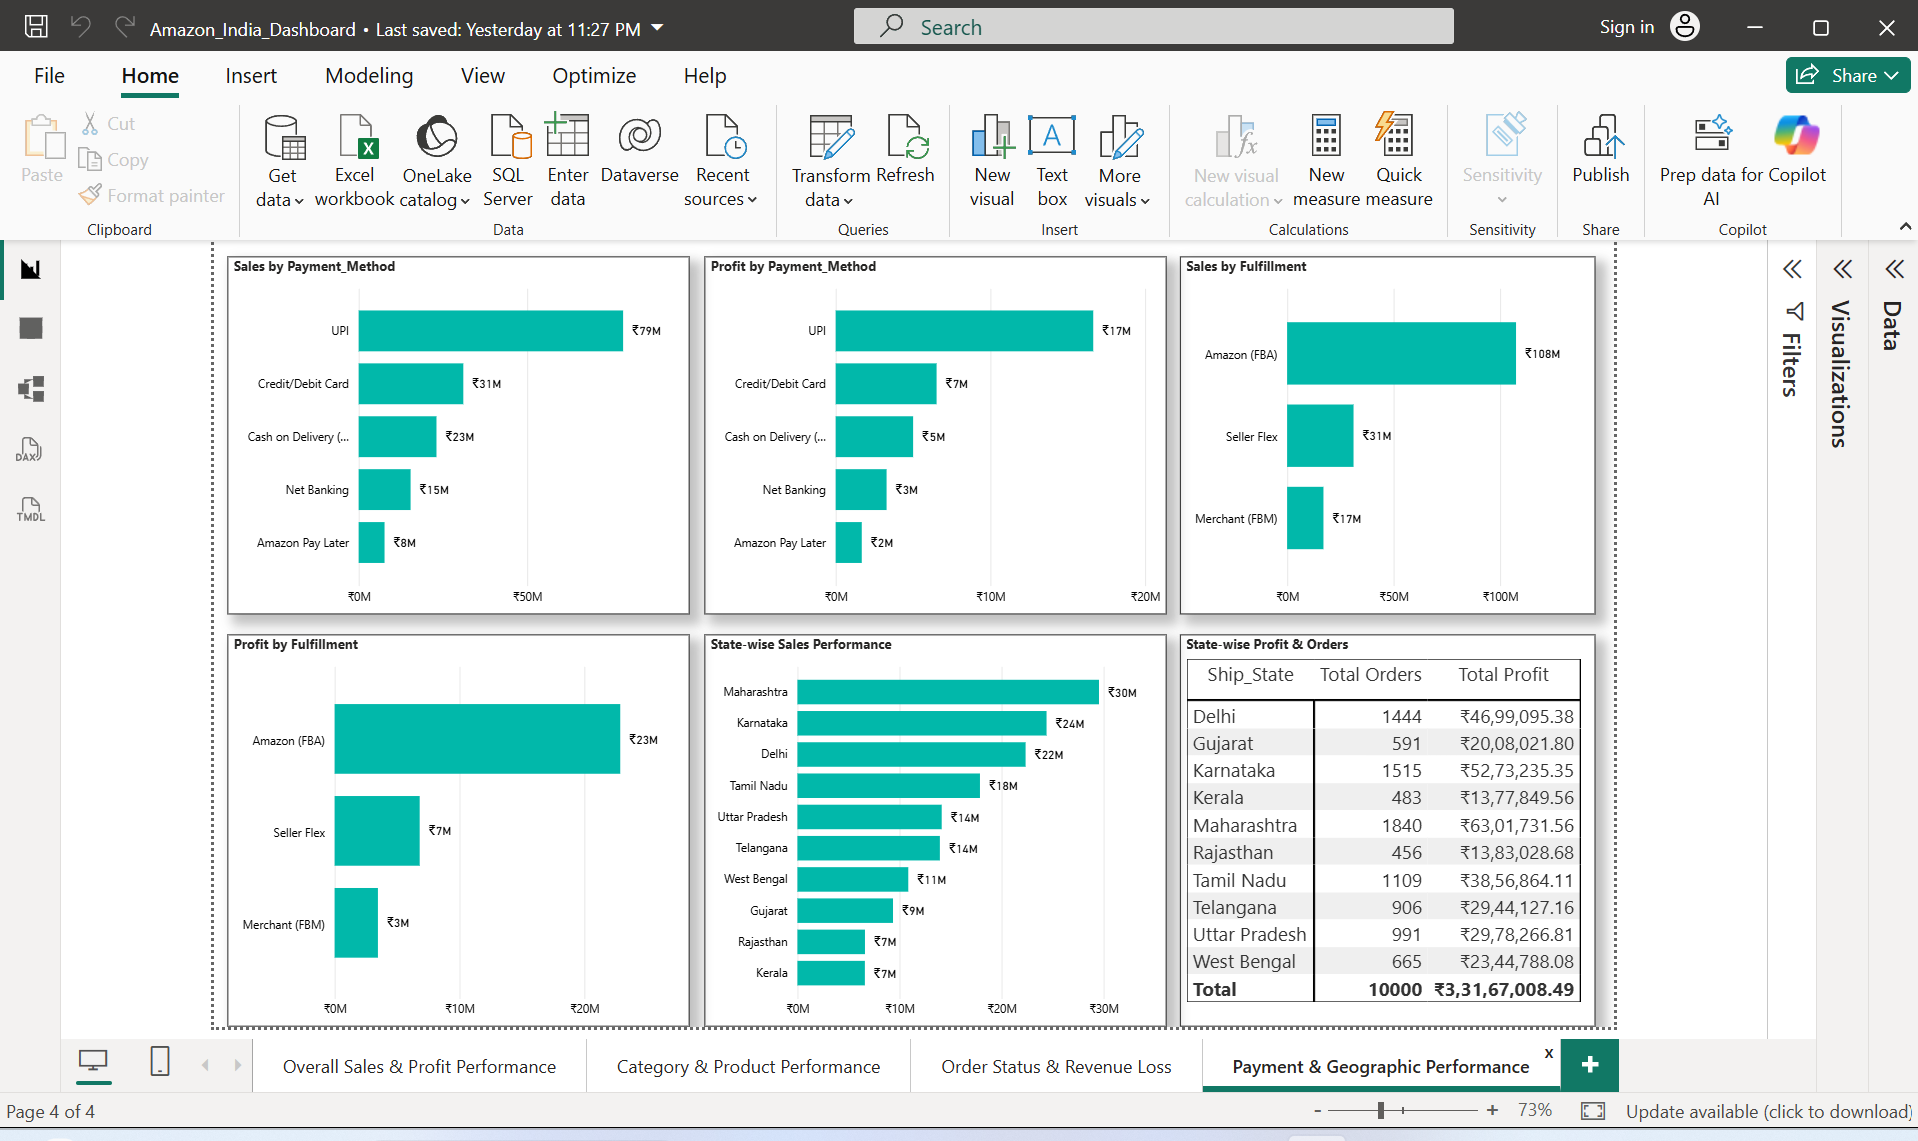

The page's visual inventory and layout, read from the dashboard file:
{"tool":"powerbi","page":{"name":"Payment & Geographic Performance","canvas":[1280,720],"ordinal":3},"visuals":[{"type":"clusteredBarChart","title":"Sales by Payment_Method","fields":{"Category":["Amazon_sales.Payment_Method"],"Y":["Amazon_sales.Total Sales"]},"box":[12.1,15.1,422.5,327.1],"z":0},{"type":"clusteredBarChart","title":"Profit by Payment_Method","fields":{"Category":["Amazon_sales.Payment_Method"],"Y":["Amazon_sales.Total Profit"]},"box":[448.2,15.1,422.5,327.1],"z":1000},{"type":"clusteredBarChart","title":"Sales by Fulfillment","fields":{"Category":["Amazon_sales.Fulfillment"],"Y":["Amazon_sales.Total Sales"]},"box":[884.3,15.1,380.1,327.1],"z":2000},{"type":"clusteredBarChart","title":"Profit by Fulfillment","fields":{"Category":["Amazon_sales.Fulfillment"],"Y":["Amazon_sales.Total Profit"]},"box":[12.1,360.4,422.5,358.9],"z":3000},{"type":"clusteredBarChart","title":"State-wise Sales Performance","fields":{"Category":["Amazon_sales.Ship_State"],"Y":["Amazon_sales.Total Sales"]},"box":[448.2,360.4,422.5,358.9],"z":4000},{"type":"pivotTable","title":"State-wise Profit & Orders","fields":{"Rows":["Amazon_sales.Ship_State"],"Values":["Amazon_sales.Total Orders","Amazon_sales.Total Profit"]},"box":[884.3,360.4,380.1,358.9],"z":5000}]}

Visuals, with their boxes on the page's 1280x720 design canvas (x1, y1, x2, y2). These are canvas units, not pixel positions in the 1918x1141 screenshot, which may show the page scaled, cropped or inside an application window:
"Sales by Payment_Method" clusteredBarChart: (12,15,435,342)
"Profit by Payment_Method" clusteredBarChart: (448,15,871,342)
"Sales by Fulfillment" clusteredBarChart: (884,15,1264,342)
"Profit by Fulfillment" clusteredBarChart: (12,360,435,719)
"State-wise Sales Performance" clusteredBarChart: (448,360,871,719)
"State-wise Profit & Orders" pivotTable: (884,360,1264,719)
